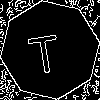T: (25, 25, 63, 75)
